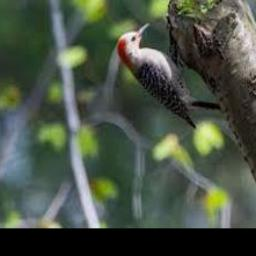Woodpecker: (118, 20, 222, 128)
